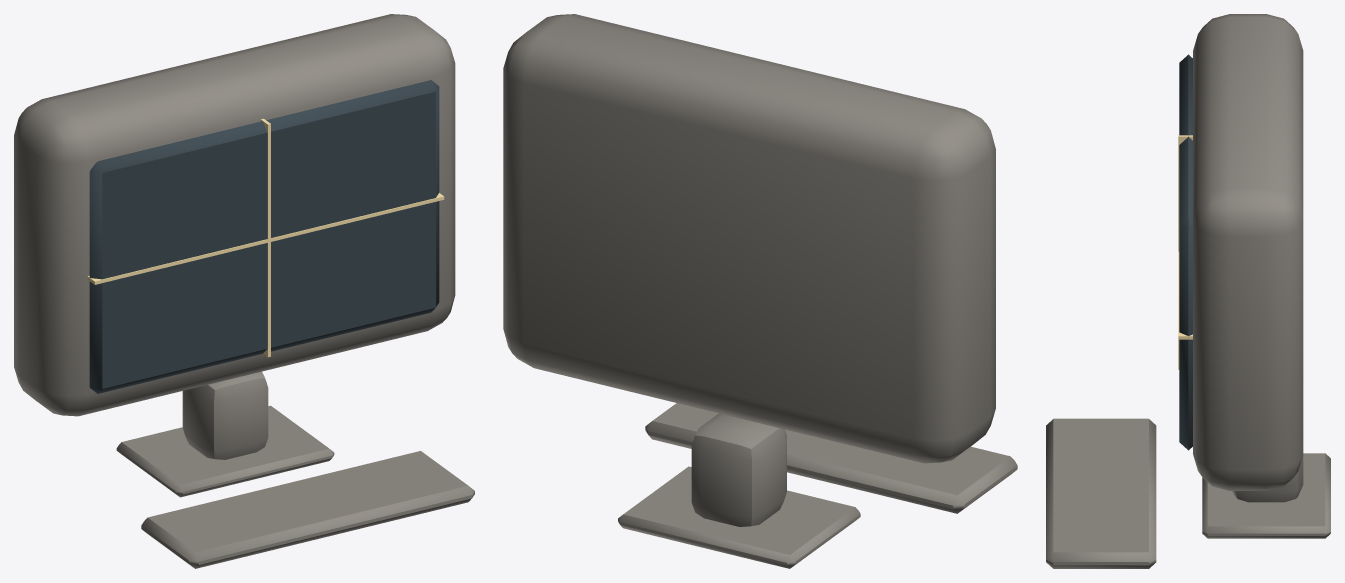
Rendered from cctv_monitor.glb.
3 views of the same model, side by side, from view 1: azimuth 30°, elevation 25°; view 2: azimuth 150°, elevation 25°; view 3: azimuth 270°, elevation 25° (orthographic). The views are drawn at different scales.
Parts seen in each view (by area): view 1: steel_dark, screen, light; view 2: steel_dark; view 3: steel_dark, screen, light.
Boxes of the visible parts, x1,y1,x2,y2 form: steel_dark: [14, 14, 474, 568]; screen: [89, 80, 439, 393]; light: [87, 118, 444, 357]; steel_dark: [503, 14, 1017, 568]; steel_dark: [1046, 14, 1330, 568]; screen: [1179, 54, 1192, 450]; light: [1178, 135, 1192, 369].
Bounding box in the file's own units: 0.52 × 0.48 × 0.31.
